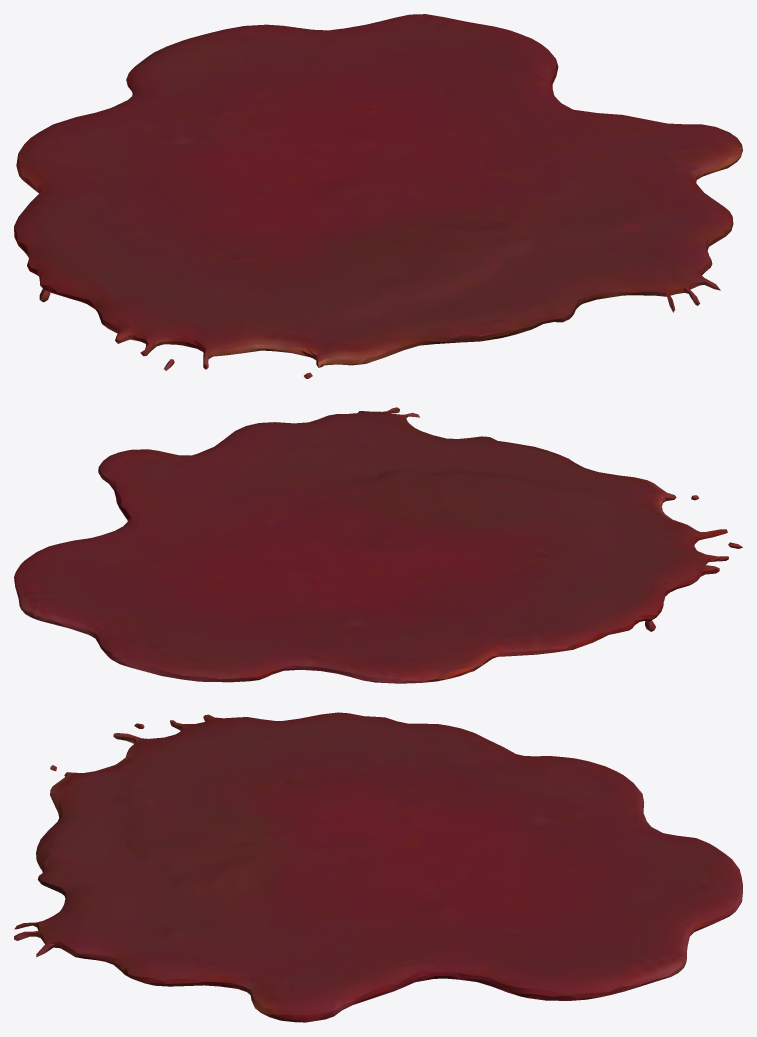
Rendered from stain.glb.
3 views of the same model, one above another, from view 1: azimuth 30°, elevation 25°; view 2: azimuth 150°, elevation 25°; view 3: azimuth 270°, elevation 25° (orthographic). The views are drawn at different scales.
Visible parts, largest first — view 1: geometry_0; view 2: geometry_0; view 3: geometry_0.
Boxes of the visible parts, x1,y1,x2,y2 form: geometry_0: (14,14,742,378); geometry_0: (14,407,742,683); geometry_0: (14,712,742,1022).
Size of the model in its own units: 0.085 by 0.00375 by 0.0859.
1 material, 1 textured.
